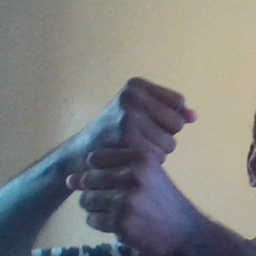G: (70, 74, 198, 234)
